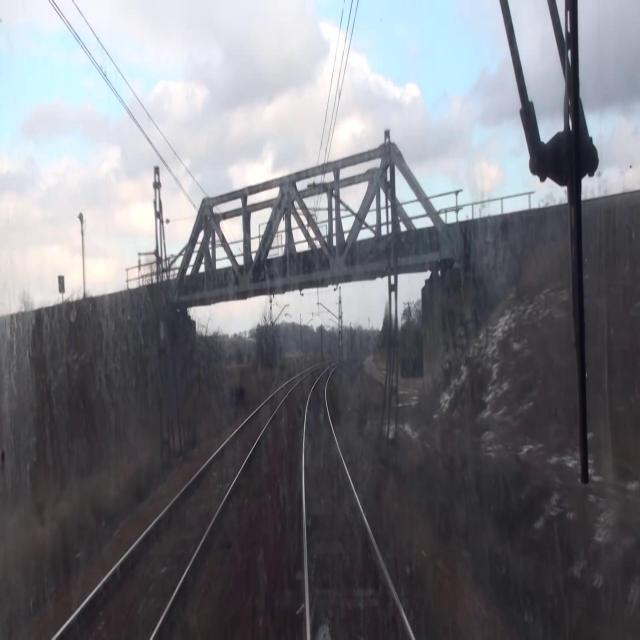rail-track: (57, 382, 293, 639), (306, 370, 410, 639)
